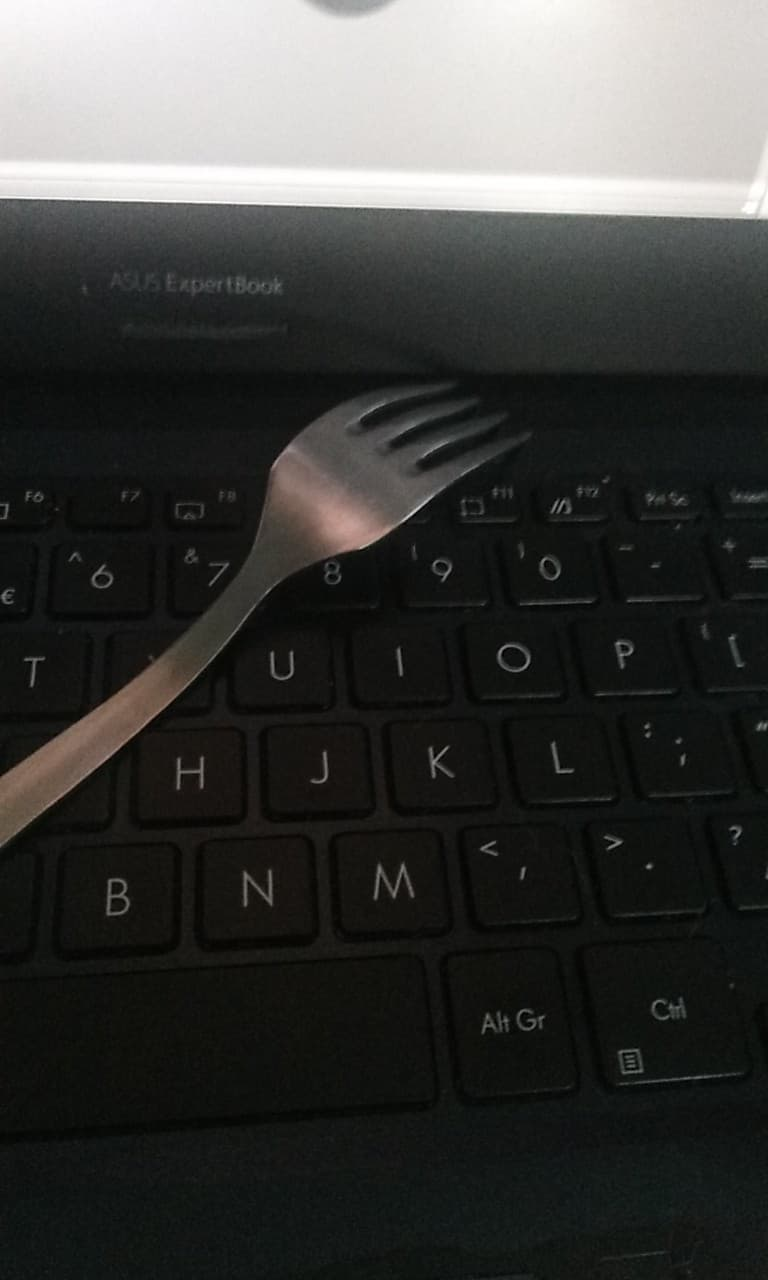Widelec: (244, 369, 532, 579)
